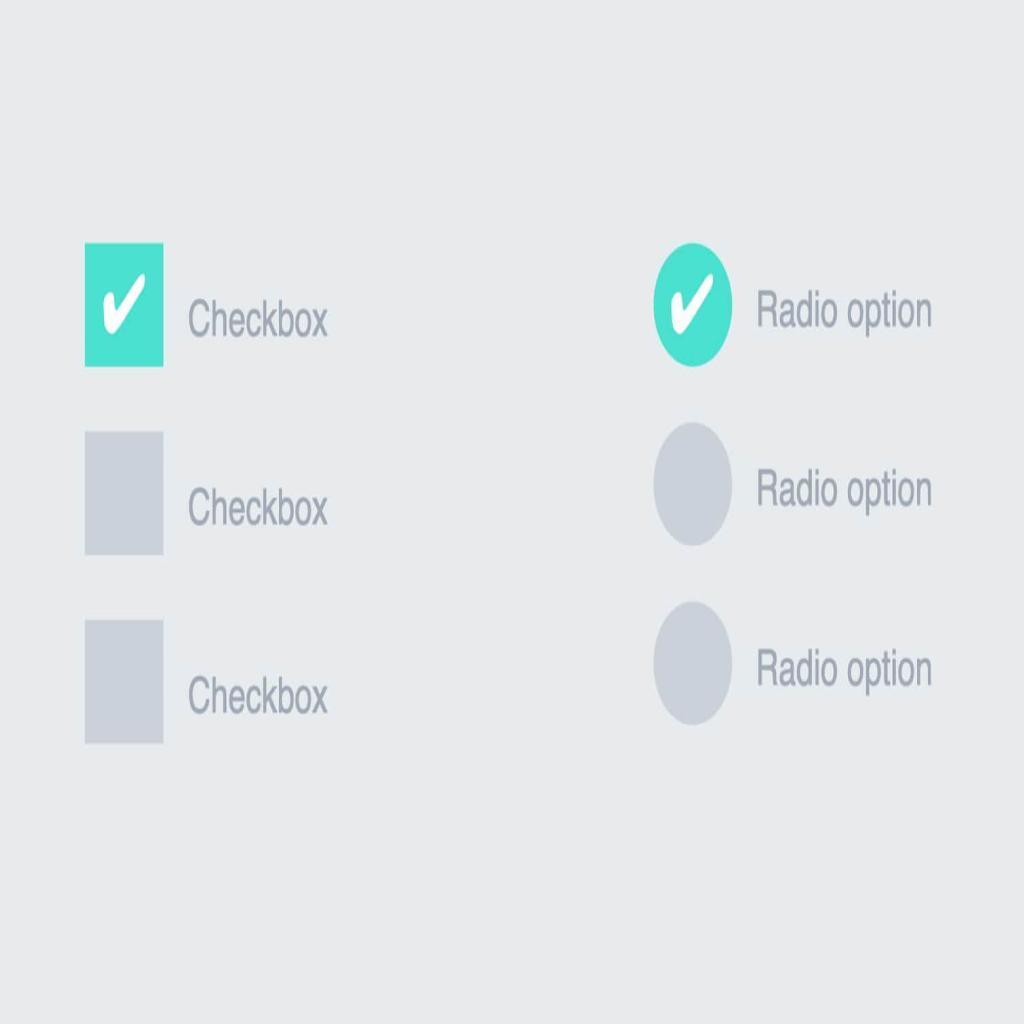checkbox: (84, 433, 167, 558), (86, 244, 166, 368), (84, 623, 165, 743)
label: (753, 284, 940, 337), (751, 464, 941, 516), (759, 641, 938, 691), (187, 295, 334, 348), (187, 482, 334, 533), (182, 674, 337, 721)
radio: (651, 244, 739, 370), (652, 600, 735, 731), (654, 425, 738, 552)
